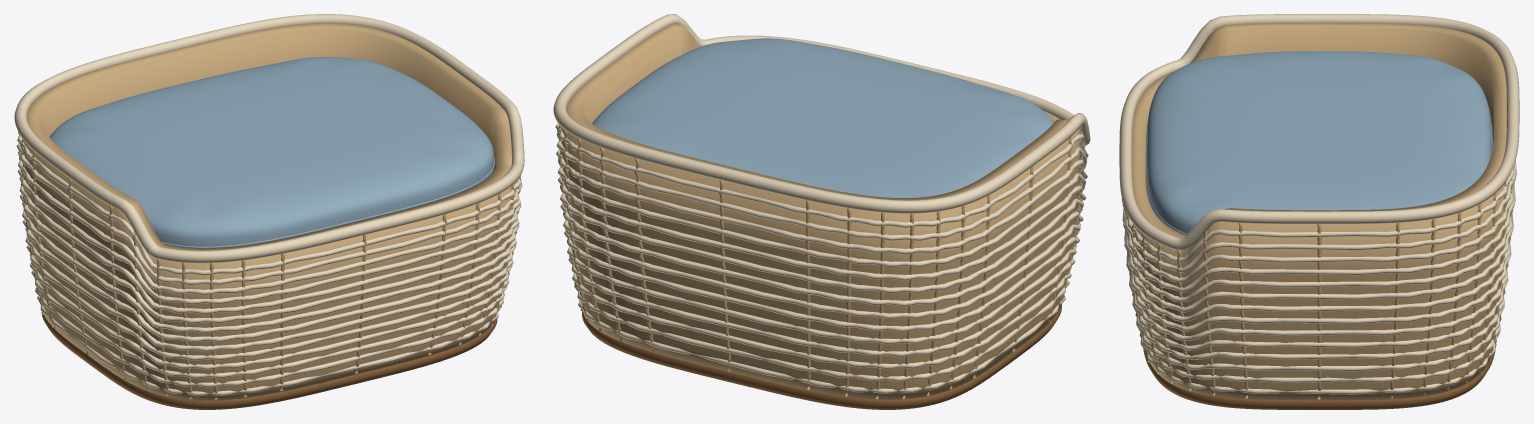
The model's file is bed.glb.
3 renders of one model, left to right at view 1: azimuth 30°, elevation 25°; view 2: azimuth 150°, elevation 25°; view 3: azimuth 270°, elevation 25°, orthographic. The views are drawn at different scales.
Parts seen in each view (by area): view 1: soft_cushion, open_basket_shell, bound_rim, basket_base, wicker_horizontal_12, wicker_horizontal_11, wicker_horizontal_08, wicker_horizontal_09, wicker_horizontal_10, wicker_horizontal_07, wicker_horizontal_13, wicker_horizontal_06 (+7 smaller); view 2: open_basket_shell, soft_cushion, bound_rim, basket_base, wicker_horizontal_12, wicker_horizontal_08, wicker_horizontal_11, wicker_horizontal_07, wicker_horizontal_10, wicker_horizontal_09, wicker_horizontal_13, wicker_horizontal_06 (+16 smaller); view 3: soft_cushion, open_basket_shell, bound_rim, basket_base, wicker_horizontal_11, wicker_horizontal_12, wicker_horizontal_10, wicker_horizontal_09, wicker_horizontal_08, wicker_horizontal_07, wicker_horizontal_06, wicker_horizontal_13 (+15 smaller).
Part boxes in pixels (left/top/right/bottom): soft_cushion: left=49, top=57, right=494, bottom=246; open_basket_shell: left=22, top=23, right=516, bottom=400; bound_rim: left=14, top=14, right=524, bottom=263; basket_base: left=41, top=311, right=497, bottom=409; wicker_horizontal_12: left=16, top=143, right=522, bottom=285; wicker_horizontal_11: left=18, top=151, right=520, bottom=295; wicker_horizontal_08: left=20, top=194, right=519, bottom=323; wicker_horizontal_09: left=19, top=176, right=519, bottom=314; wicker_horizontal_10: left=17, top=168, right=521, bottom=304; wicker_horizontal_07: left=22, top=202, right=516, bottom=333; wicker_horizontal_13: left=17, top=135, right=521, bottom=275; wicker_horizontal_06: left=22, top=219, right=516, bottom=342; open_basket_shell: left=561, top=23, right=1081, bottom=399; soft_cushion: left=592, top=38, right=1053, bottom=197; bound_rim: left=553, top=14, right=1090, bottom=213; basket_base: left=582, top=304, right=1061, bottom=409; wicker_horizontal_12: left=556, top=133, right=1087, bottom=240; wicker_horizontal_08: left=560, top=187, right=1083, bottom=293; wicker_horizontal_11: left=556, top=149, right=1087, bottom=254; wicker_horizontal_07: left=560, top=203, right=1083, bottom=306; wicker_horizontal_10: left=557, top=160, right=1086, bottom=267; wicker_horizontal_09: left=557, top=176, right=1086, bottom=280; wicker_horizontal_13: left=555, top=123, right=1088, bottom=227; wicker_horizontal_06: left=563, top=220, right=1080, bottom=319; soft_cushion: left=1147, top=51, right=1491, bottom=234; open_basket_shell: left=1130, top=23, right=1509, bottom=400; bound_rim: left=1119, top=14, right=1519, bottom=250; basket_base: left=1143, top=340, right=1496, bottom=409; wicker_horizontal_11: left=1123, top=160, right=1516, bottom=282; wicker_horizontal_12: left=1121, top=164, right=1516, bottom=272; wicker_horizontal_10: left=1122, top=188, right=1515, bottom=292; wicker_horizontal_09: left=1124, top=185, right=1515, bottom=302; wicker_horizontal_08: left=1124, top=215, right=1513, bottom=312; wicker_horizontal_07: left=1126, top=213, right=1513, bottom=321; wicker_horizontal_06: left=1126, top=243, right=1511, bottom=332; wicker_horizontal_13: left=1122, top=167, right=1514, bottom=262.
Size of the model in its own units: 1.2 by 0.6 by 1.
